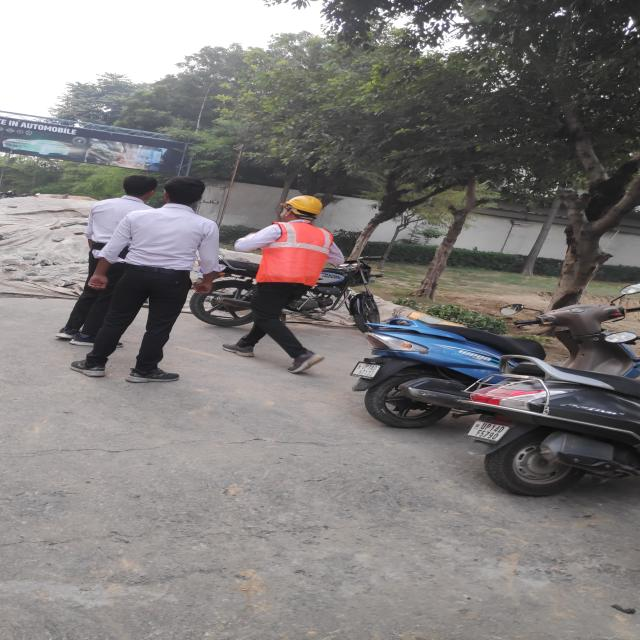safe: (230, 189, 340, 376)
unsafe: (88, 174, 225, 382)
